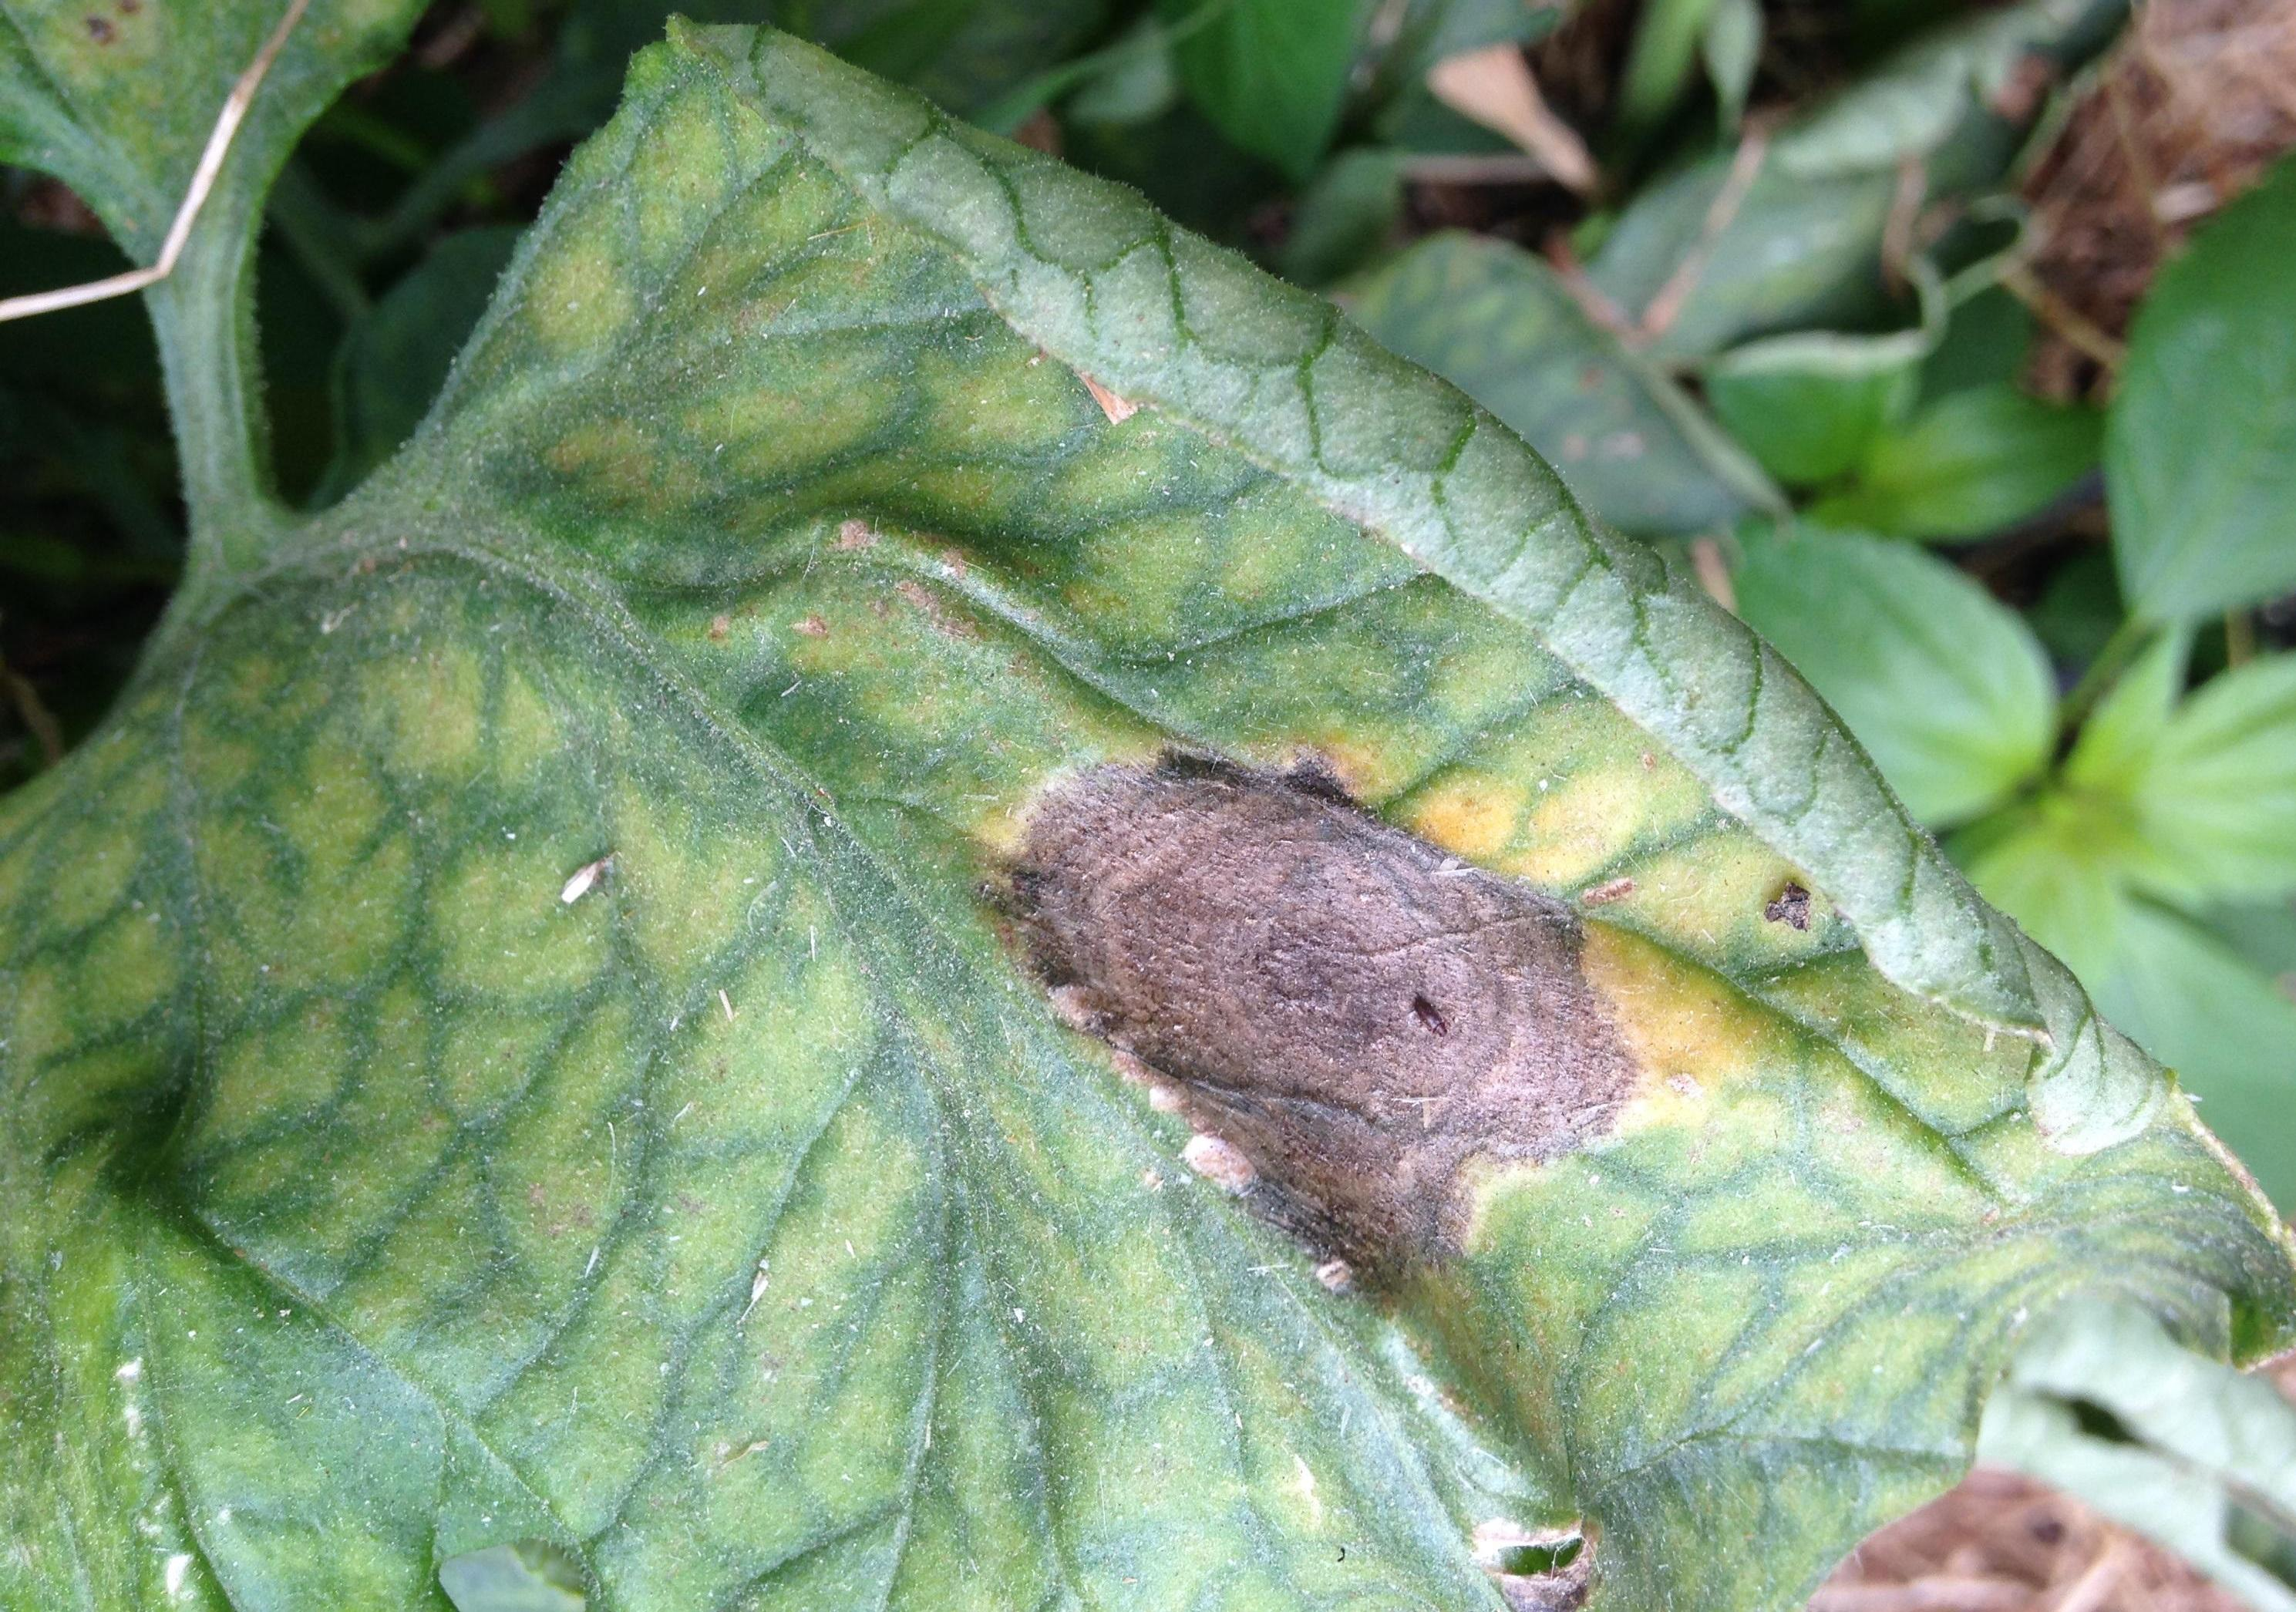Tomato Early blight leaf: (762, 707, 1748, 1488)
